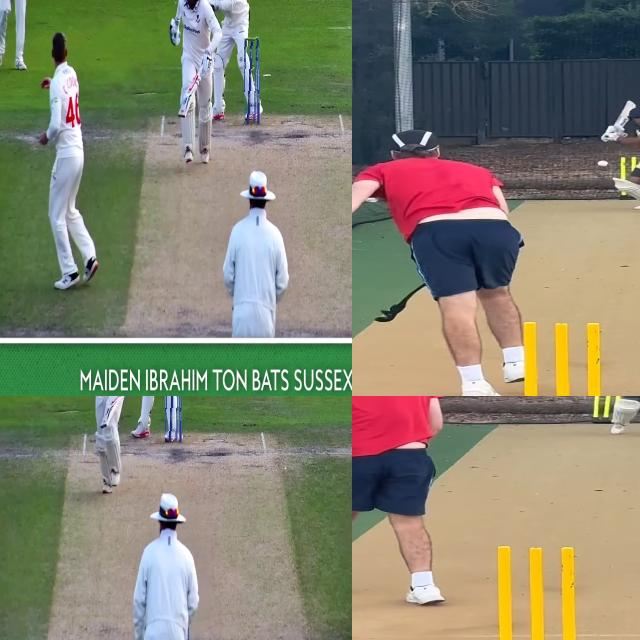Cricket ball: (596, 159, 610, 168)
Stumps: (487, 544, 589, 640), (511, 320, 619, 396), (244, 35, 260, 129), (589, 396, 620, 424), (165, 396, 182, 445)
